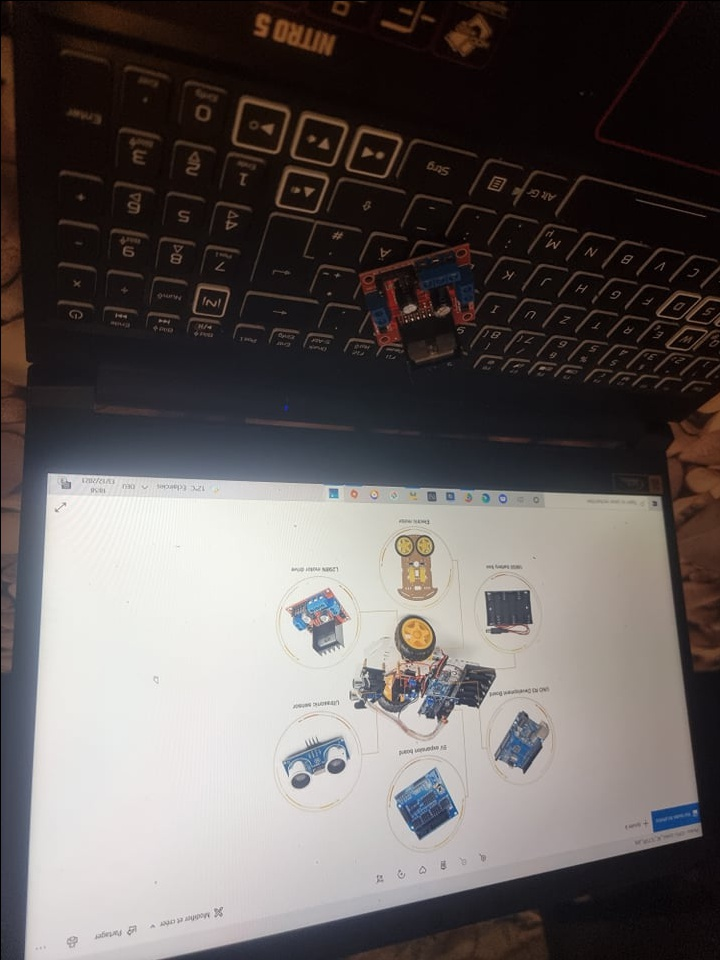5V EXPANSION: (391, 765, 462, 843)
BATTERY BOX: (482, 587, 531, 626)
MOTOR: (357, 238, 487, 364), (285, 588, 352, 657)
SENSOR: (281, 737, 349, 795), (342, 671, 364, 705)
UNO R3: (488, 704, 550, 778)
